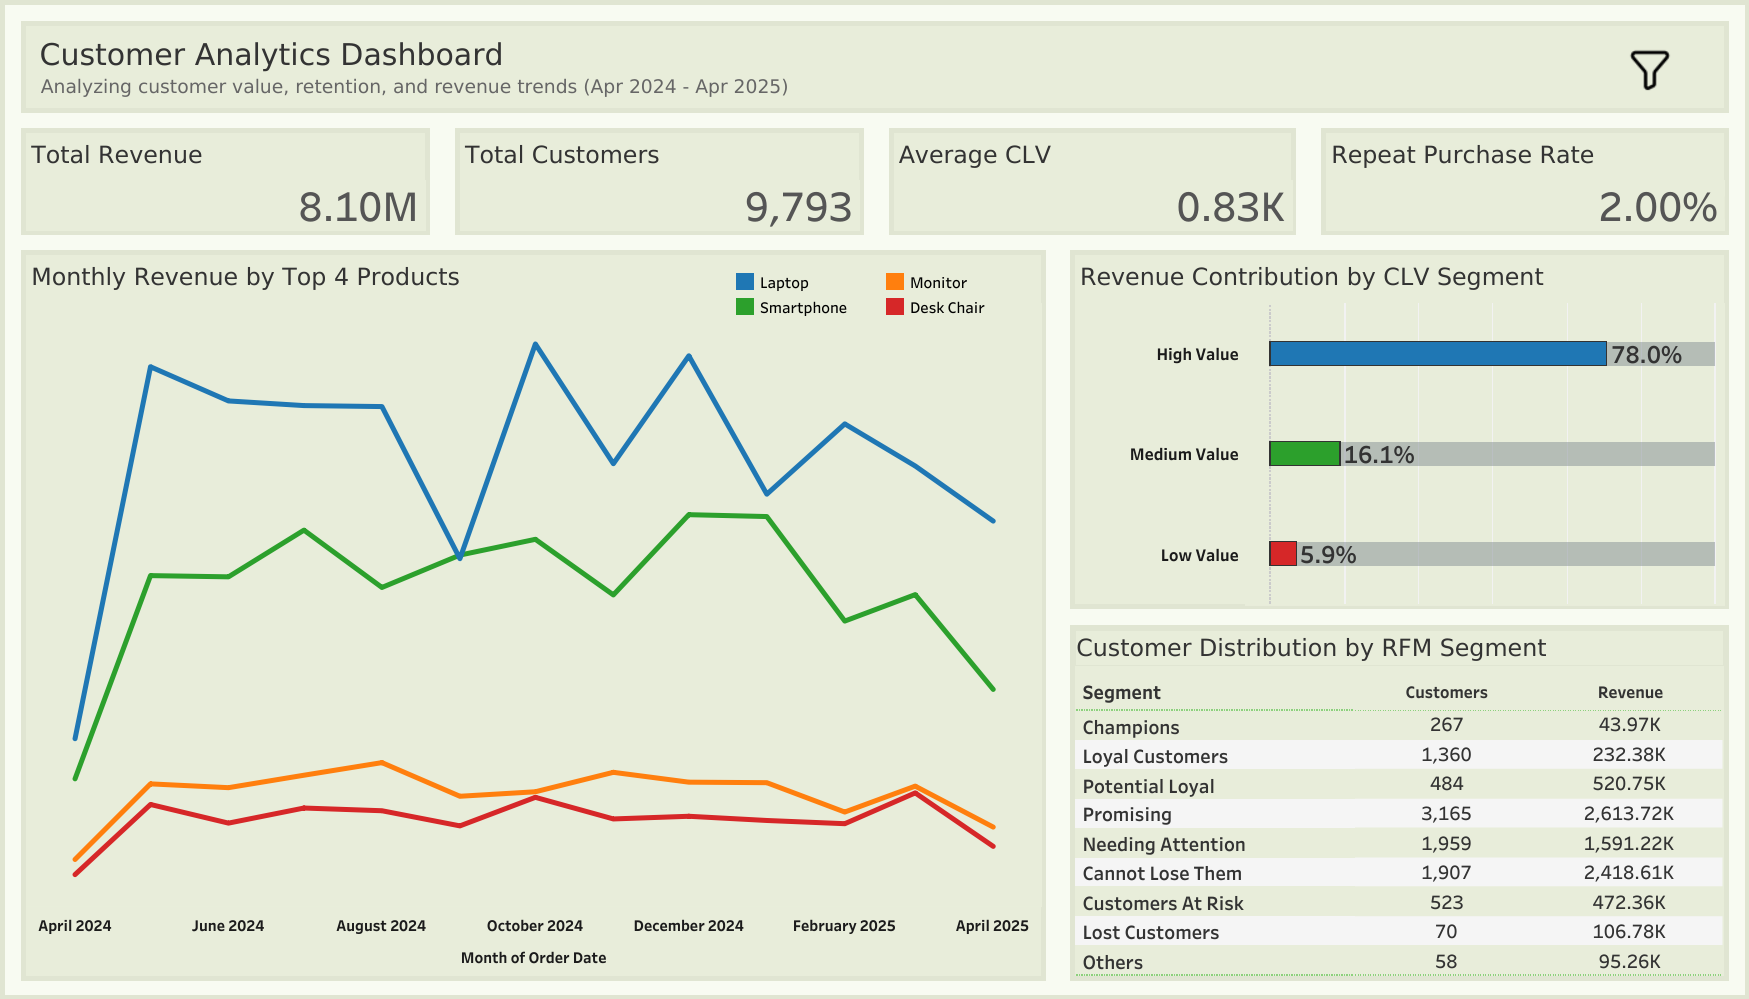

What the dashboard file says about the page in this screenshot:
{"tool":"tableau","page":{"name":"Dashboard 1","canvas":[1400,800],"ordinal":0},"visuals":[{"type":"text","box":[29,24,536,38]},{"type":"dashboard-object","box":[1298.5,34.7,42,42.7]},{"type":"text","box":[30,51,689,35]},{"type":"worksheet","title":"KPI 1","mark":"Automatic","box":[7,92,347,106]},{"type":"worksheet","title":"KPI 2","mark":"Automatic","box":[354,92,347,106]},{"type":"worksheet","title":"KPI 3","mark":"Automatic","box":[701,92,346,106]},{"type":"worksheet","title":"KPI 4","mark":"Automatic","box":[1047,92,346,106]},{"type":"filter","title":"main chart","param":"[federated.1w1gjjf10y2jdx1g1e9lq09tljp1].[tmn:OrderDate:qk]","box":[1060,93,244,77]},{"type":"filter","title":"secondry chart","param":"[federated.1w1gjjf10y2jdx1g1e9lq09tljp1].[none:CLV_Segment:nk]","box":[1060,170,244,76]},{"type":"worksheet","title":"main chart","mark":"Line","rows":["Revenue"],"cols":["OrderDate"],"box":[7,190.2,840,604.4]},{"type":"worksheet","title":"secondry chart","mark":"Bar","rows":["CLV_Segment"],"cols":["Calculation_1485624978531229696","total_revenue"],"box":[846.1,190.2,546.9,306.7]},{"type":"legend","title":"main chart","param":"[federated.1w1gjjf10y2jdx1g1e9lq09tljp1].[none:Product:nk]","box":[586,215,244,56]},{"type":"filter","title":"detailed chart","param":"[federated.1w1gjjf10y2jdx1g1e9lq09tljp1].[none:Segment:nk]","box":[1060,246,244,76]},{"type":"filter","title":"main chart","param":"[federated.1w1gjjf10y2jdx1g1e9lq09tljp1].[none:Product:nk]","box":[1060,322,244,76]},{"type":"worksheet","title":"detailed chart","mark":"Automatic","rows":["Segment"],"box":[846.1,489.8,546.9,304.9]}]}

Visuals, with their boxes in screenshot pixels (x1, y1, x2, y2), scaled from the page's 1400x800 canvas onto the 1749x999 screenshot:
text: locate(36, 30, 706, 77)
dashboard-object: locate(1622, 43, 1675, 97)
text: locate(37, 64, 898, 107)
"KPI 1" worksheet: locate(9, 115, 442, 247)
"KPI 2" worksheet: locate(442, 115, 876, 247)
"KPI 3" worksheet: locate(876, 115, 1308, 247)
"KPI 4" worksheet: locate(1308, 115, 1740, 247)
"main chart" filter: locate(1324, 116, 1629, 212)
"secondry chart" filter: locate(1324, 212, 1629, 307)
"main chart" worksheet (Line marks): locate(9, 238, 1058, 992)
"secondry chart" worksheet (Bar marks): locate(1057, 238, 1740, 621)
"main chart" legend: locate(732, 268, 1037, 338)
"detailed chart" filter: locate(1324, 307, 1629, 402)
"main chart" filter: locate(1324, 402, 1629, 497)
"detailed chart" worksheet: locate(1057, 612, 1740, 992)
